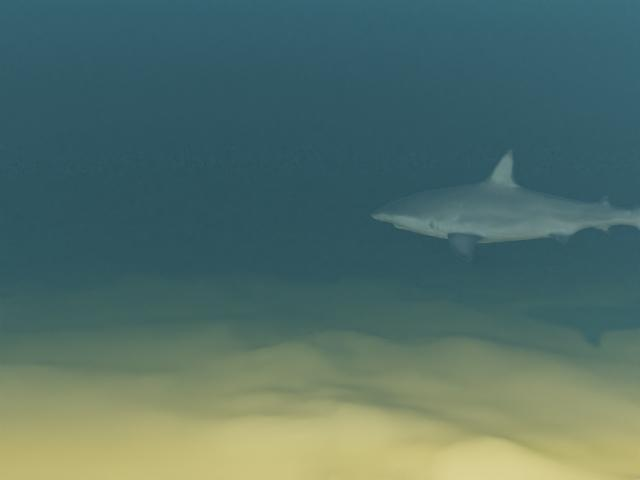Carribean Shark.001: (370, 148, 640, 261)
